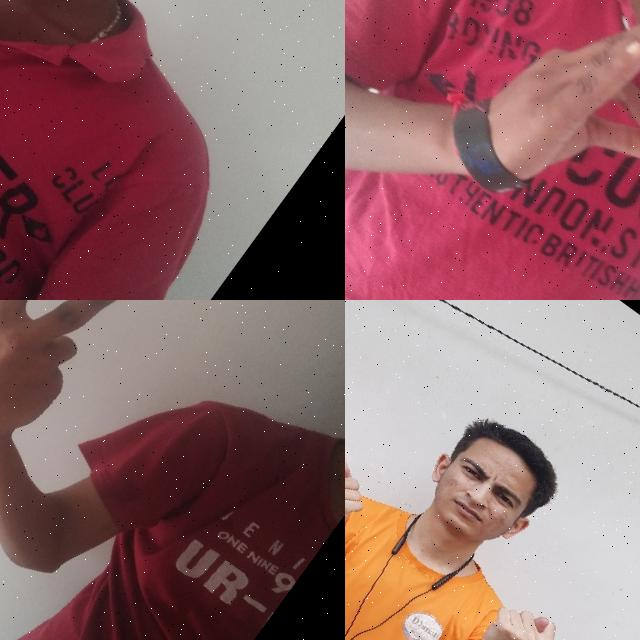Chin Flick: (0, 0, 316, 145)
Dulya: (459, 578, 576, 640), (345, 433, 388, 547)
Okay: (441, 0, 640, 270)
Reversed Victory: (0, 300, 147, 500)
